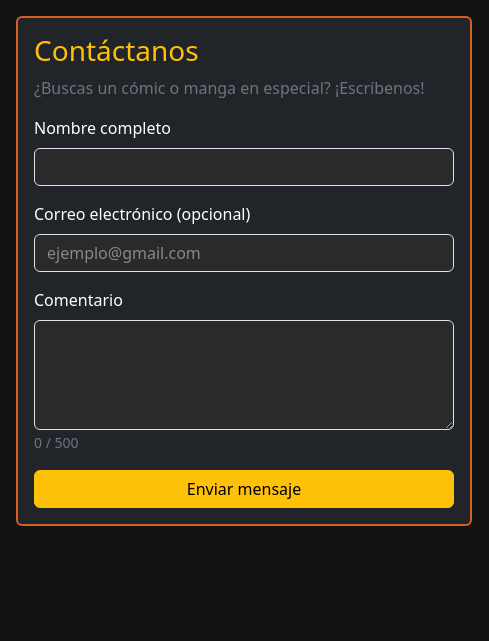
Test case: Página Contacto › debería mostrar el mensaje de éxito con datos válidos (correo opcional vacío)
This screenshot has width=489, height=641.
Type "Javier" into the field labelled "Nombre completo" at (244, 167), box [34,148,454,186]
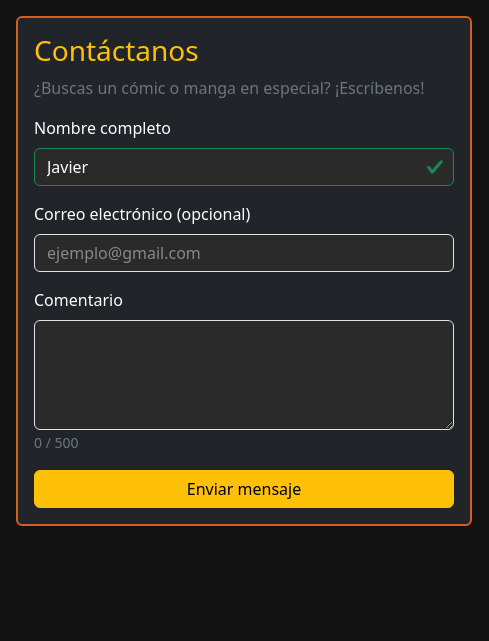
Type "¿Tienen Akira?" into the text box labelled "Comentario" at (244, 375), box [34,320,454,430]
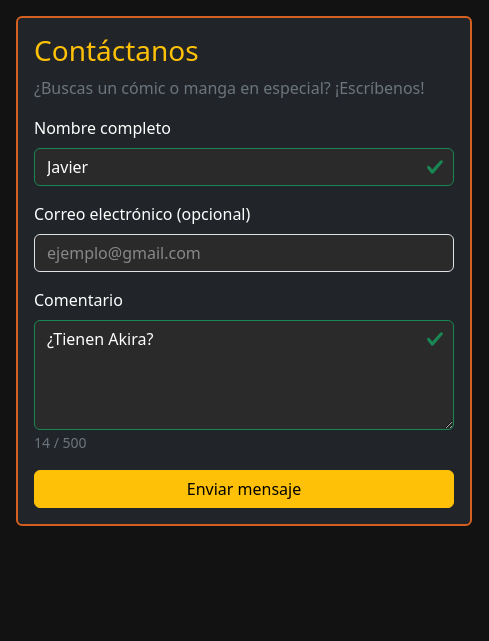
Click the button "Enviar mensaje" at (244, 489), box [34,470,454,508]
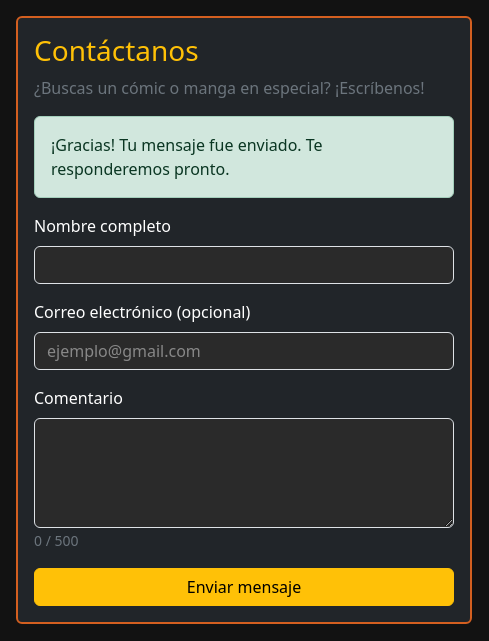
Now the text "¡Gracias! Tu mensaje fue enviado. Te responderemos pronto." is shown, box [34,116,454,198]
